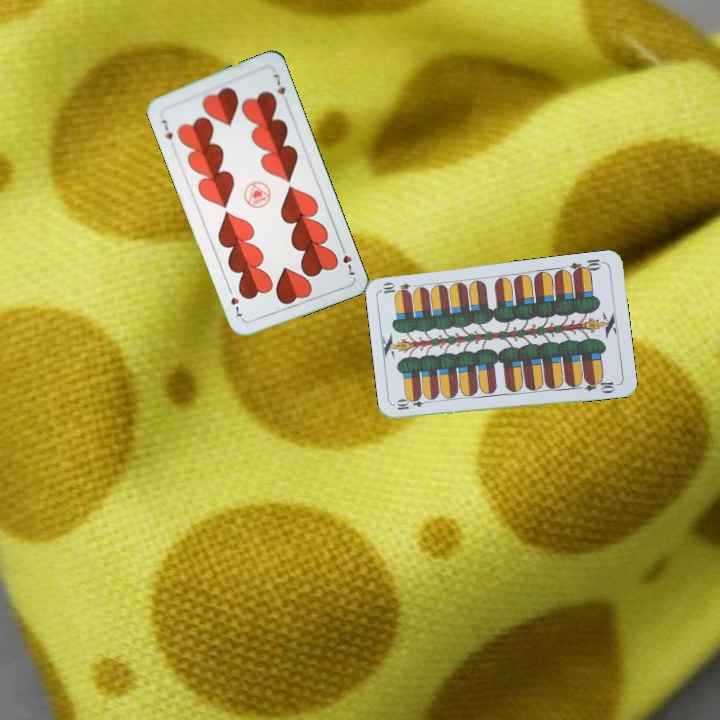E10: (566, 255, 607, 277), (392, 395, 433, 413)
H7: (336, 241, 358, 278), (157, 115, 175, 142)
